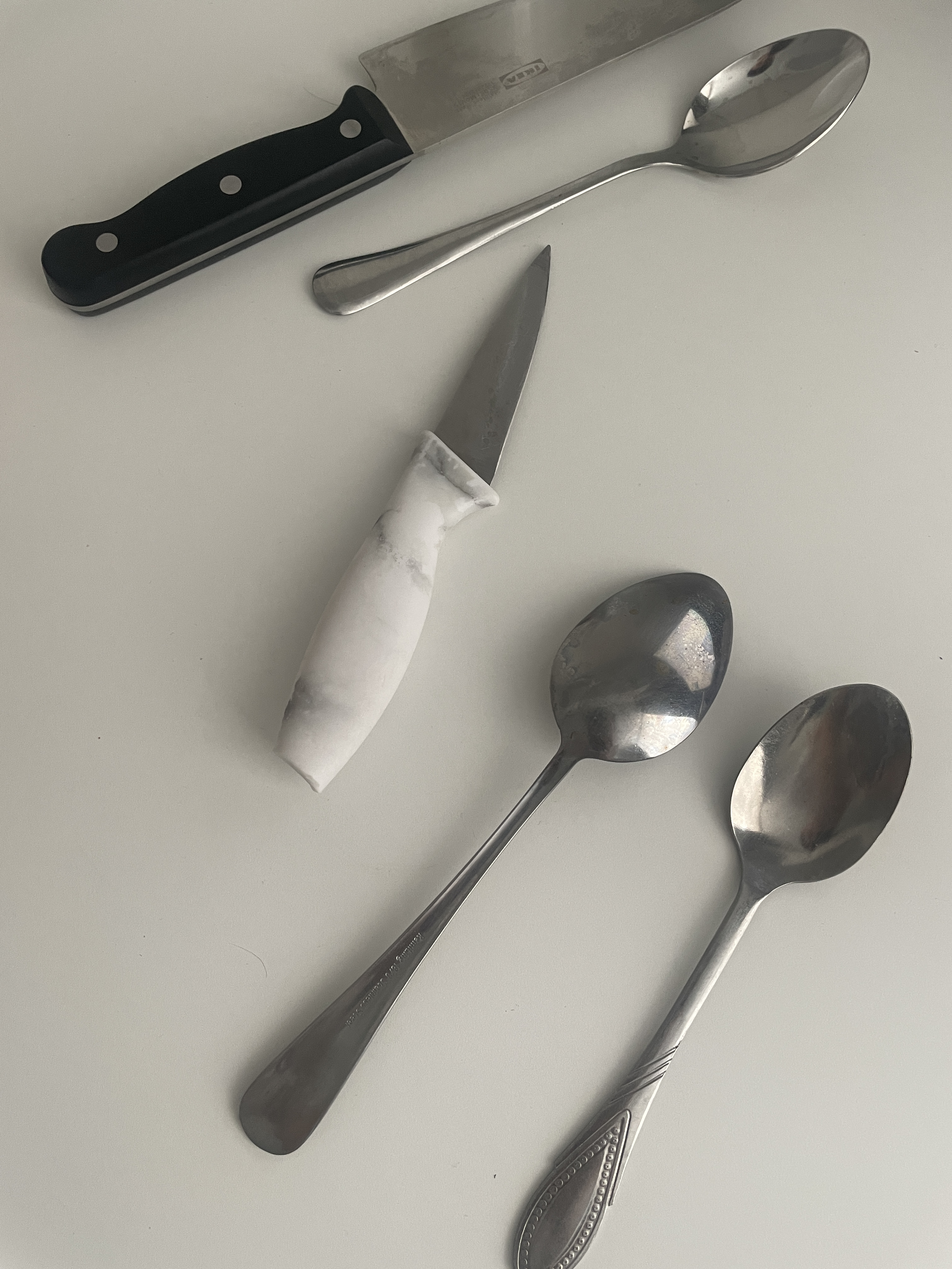knife: (42, 0, 737, 313), (276, 247, 550, 792)
spoon: (240, 572, 732, 1154), (515, 684, 911, 1269), (312, 29, 870, 314)
